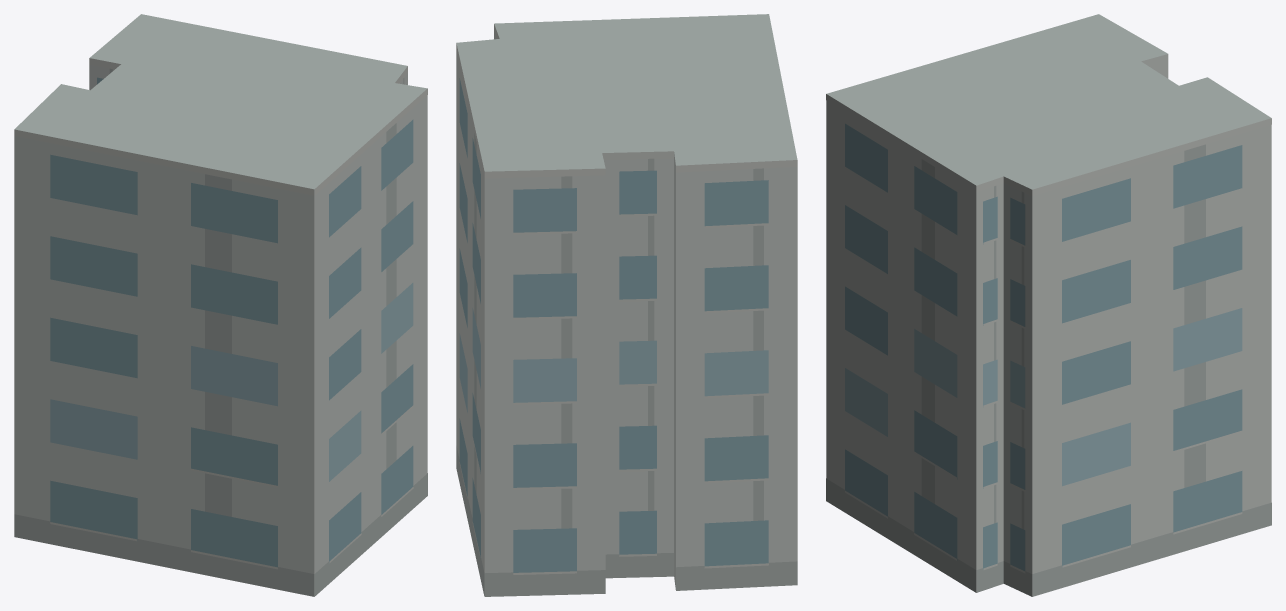
Rendered from survey-upis-32828953.glb.
3 renders of one model, left to right at view 1: azimuth 30°, elevation 25°; view 2: azimuth 150°, elevation 25°; view 3: azimuth 270°, elevation 25°, orthographic. The views are drawn at different scales.
Visible parts, largest first — view 1: survey-upis-32828953.tmp; view 2: survey-upis-32828953.tmp; view 3: survey-upis-32828953.tmp.
Boxes of the visible parts, <box> form: survey-upis-32828953.tmp: <box>14,14,427,596</box>; survey-upis-32828953.tmp: <box>456,14,797,596</box>; survey-upis-32828953.tmp: <box>826,14,1271,596</box>.
Bounding box in the file's own units: 13.88 × 15 × 14.88.
